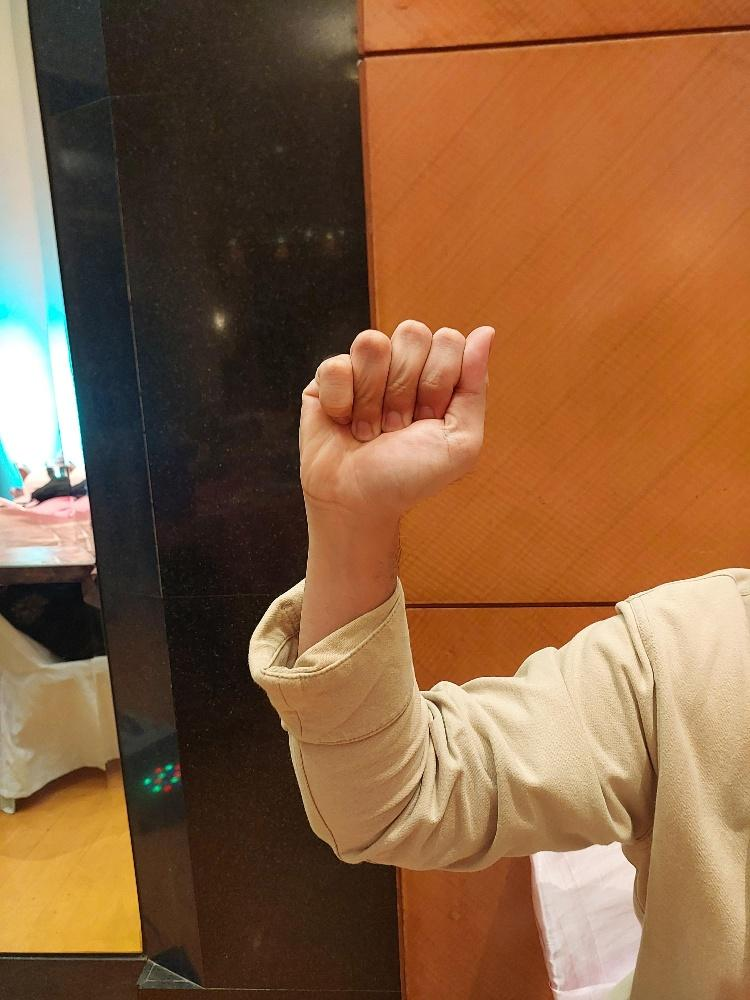a: (294, 315, 496, 512)
